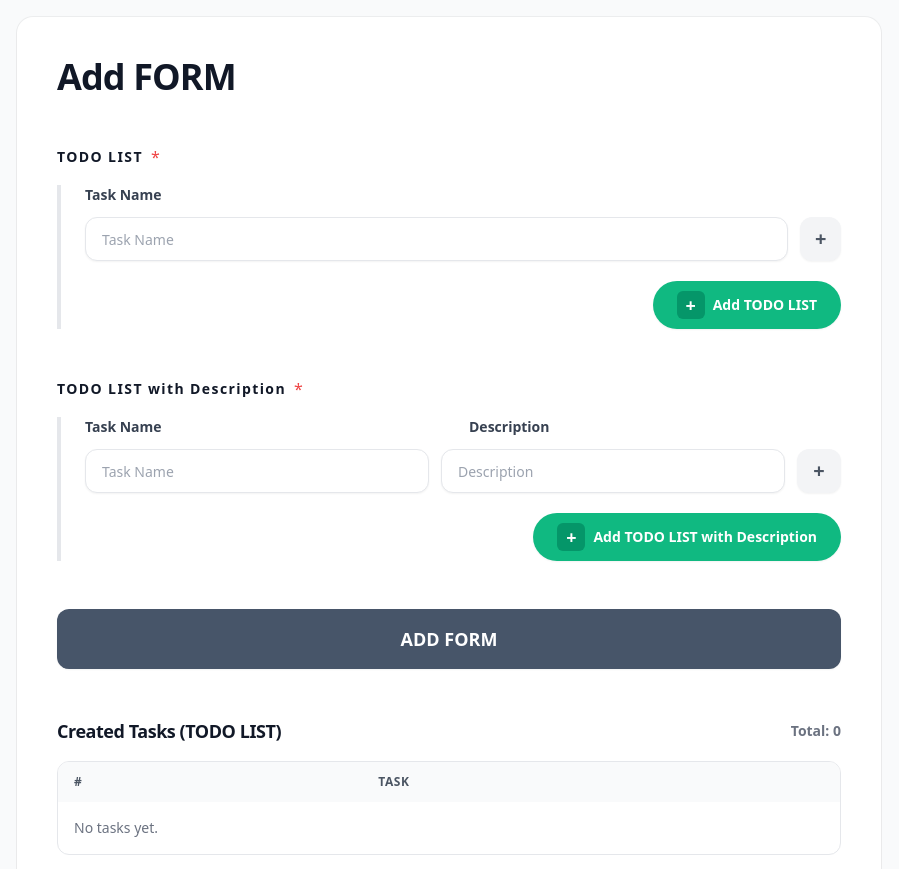
Test: adds a new TODO LIST row when clicking the green Add TODO LIST button
Type "Walk" into the 1st field with placeholder "Task Name".
click(437, 239); type("Walk")  # box [85,217,788,261]
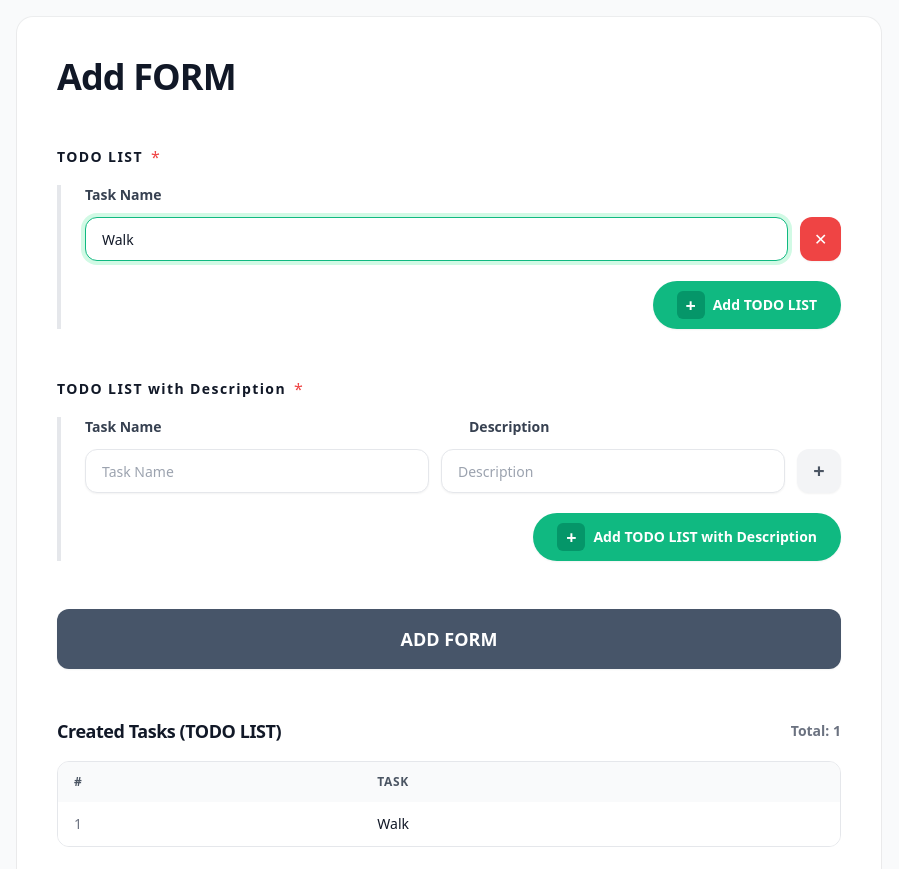
Click the button "+ Add TODO LIST".
click(747, 305)  # box [653,281,841,329]
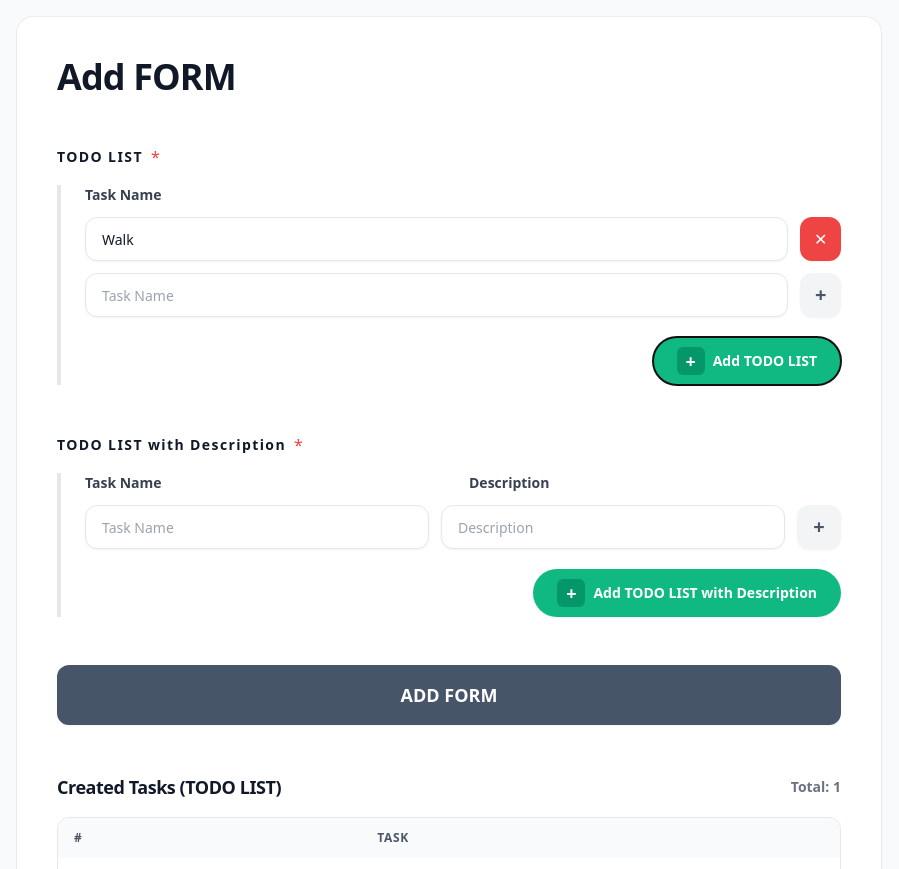
Check: the number of fields with placeholder "Task Name" is 2, box [85,217,788,261]; [85,273,788,317]
